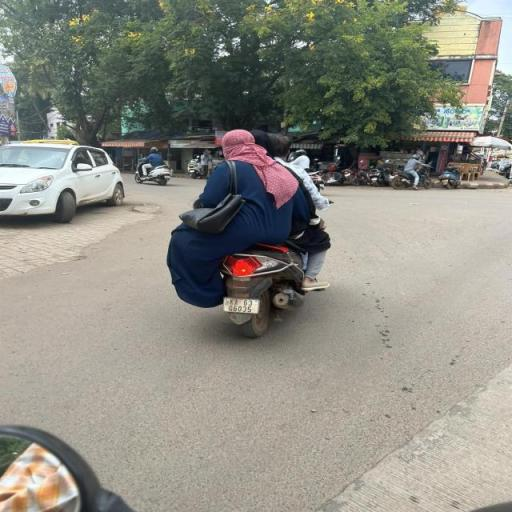tripple riding: (167, 126, 334, 244)
